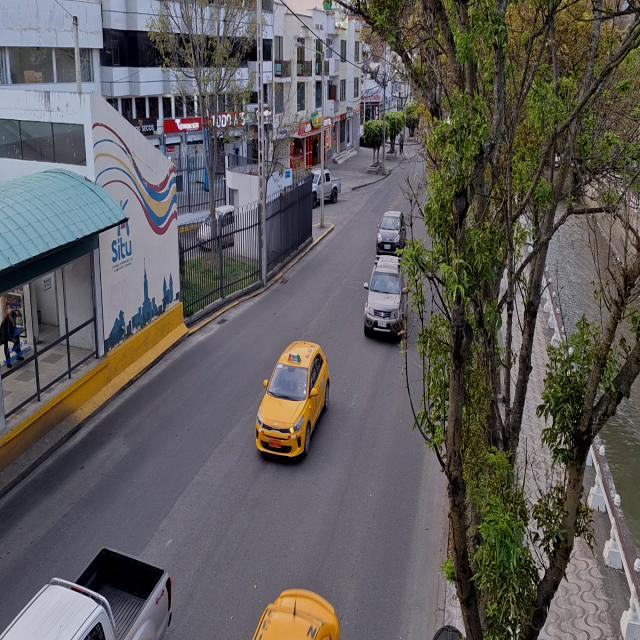CMT: (0, 535, 174, 640)
SED: (259, 341, 329, 451)
SUV: (366, 255, 405, 339)
